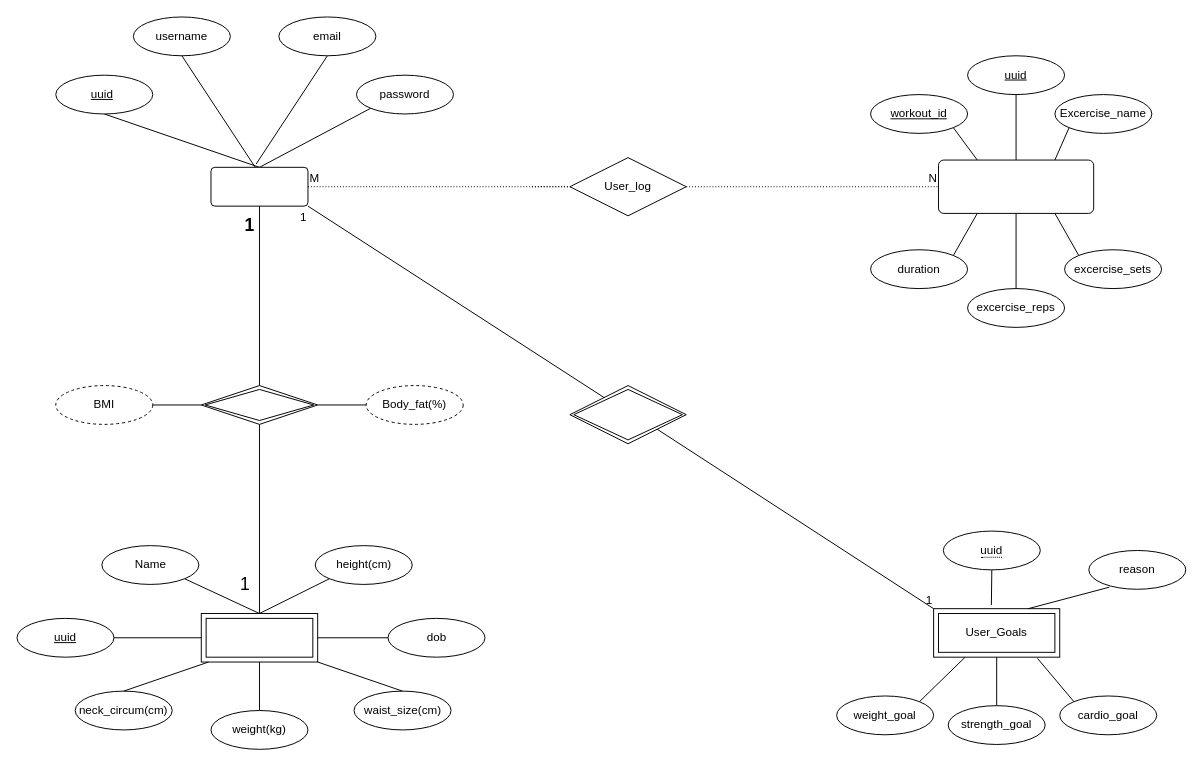
The diagram is 1203 pixels wide and 766 high, and some of its shapes have lost their labels. The centre of each missing label's shape, as x and y in pixels:
"goals" belongs at (x=627, y=414).
"user" belongs at (x=259, y=186).
"user data" belongs at (x=259, y=404).
"user_data" belongs at (x=259, y=637).
"Workout_Journal" belongs at (x=1016, y=186).
